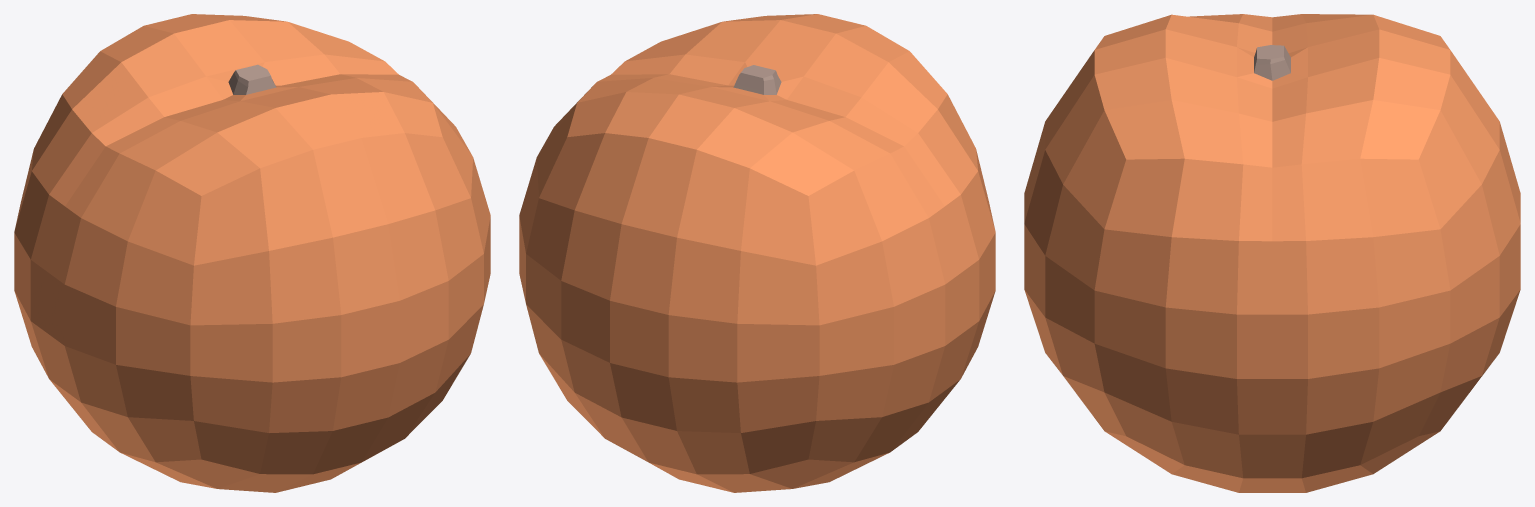
File: peach.fbx
The picture shows the model from 3 angles, left to right: view 1: azimuth 30°, elevation 25°; view 2: azimuth 150°, elevation 25°; view 3: azimuth 270°, elevation 25°; orthographic projection. The views are drawn at different scales.
Visible parts, largest first — view 1: peach_Roundcube.006; view 2: peach_Roundcube.006; view 3: peach_Roundcube.006.
Part boxes in pixels (x1,y1,x2,y2): peach_Roundcube.006: (14,14,490,492); peach_Roundcube.006: (519,14,995,492); peach_Roundcube.006: (1024,14,1520,492).
Bounding box in the file's own units: 980 × 922 × 980.
